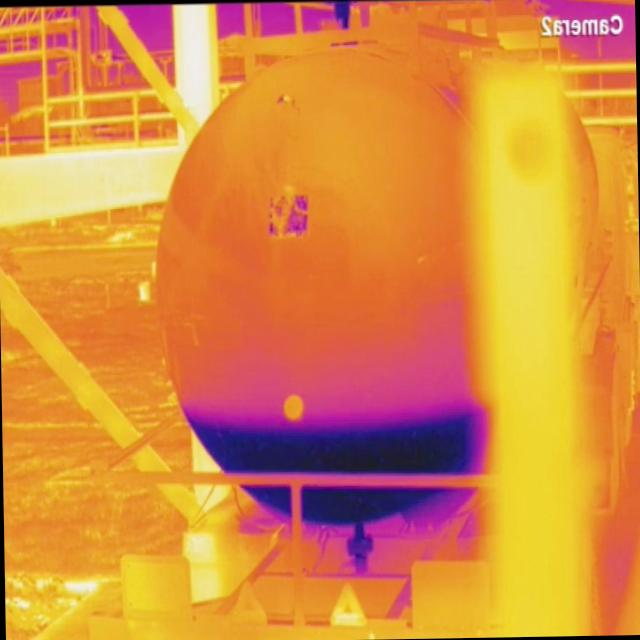tank: (151, 46, 496, 530)
